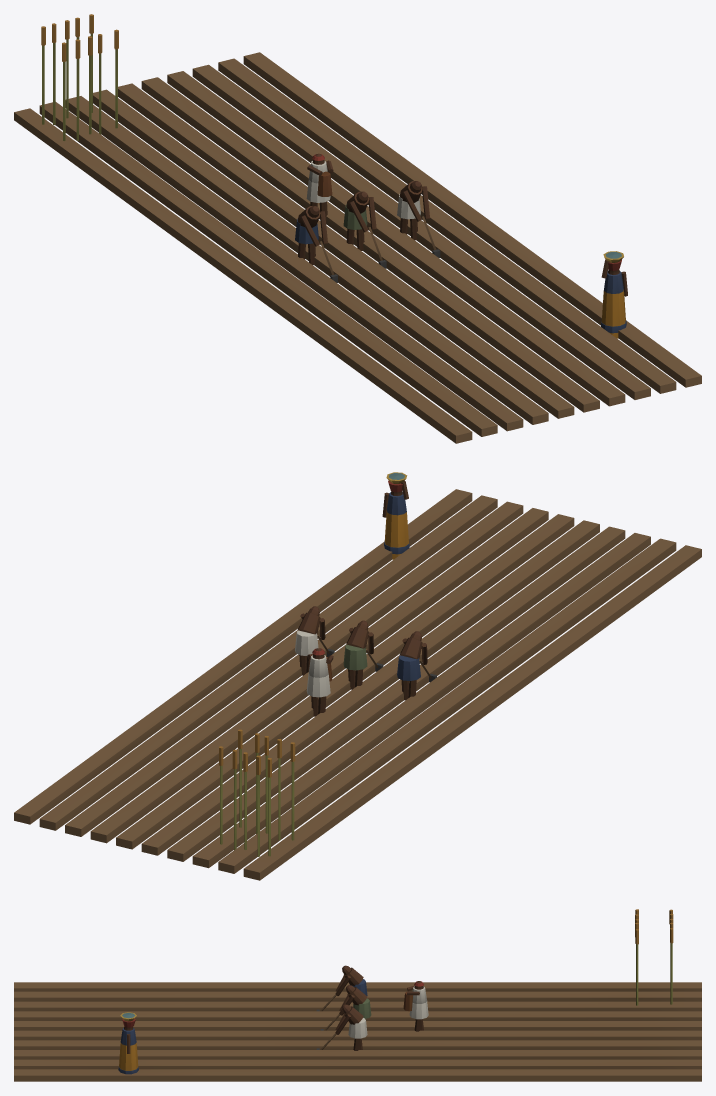
Rendered from farmer.glb.
3 views of the same model, one above another, from view 1: azimuth 30°, elevation 25°; view 2: azimuth 150°, elevation 25°; view 3: azimuth 270°, elevation 25° (orthographic). The views are drawn at different scales.
Parts seen in each view (by area): view 1: base, anim_walk; view 2: base, anim_walk; view 3: base, anim_walk.
Part boxes in pixels (x1,y1,x2,y2): base: [14, 14, 701, 443]; anim_walk: [295, 153, 440, 282]; base: [14, 472, 701, 880]; anim_walk: [295, 606, 436, 716]; base: [14, 909, 701, 1081]; anim_walk: [316, 965, 428, 1050].
Bounding box in the file's own units: 5.78 × 2.36 × 18.
